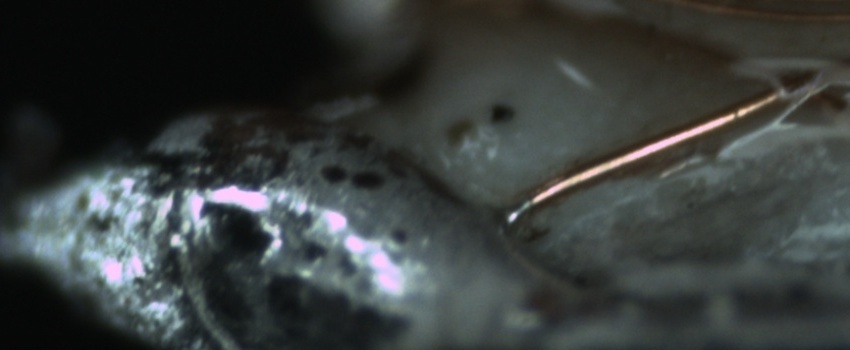TS: (504, 194, 535, 226)
